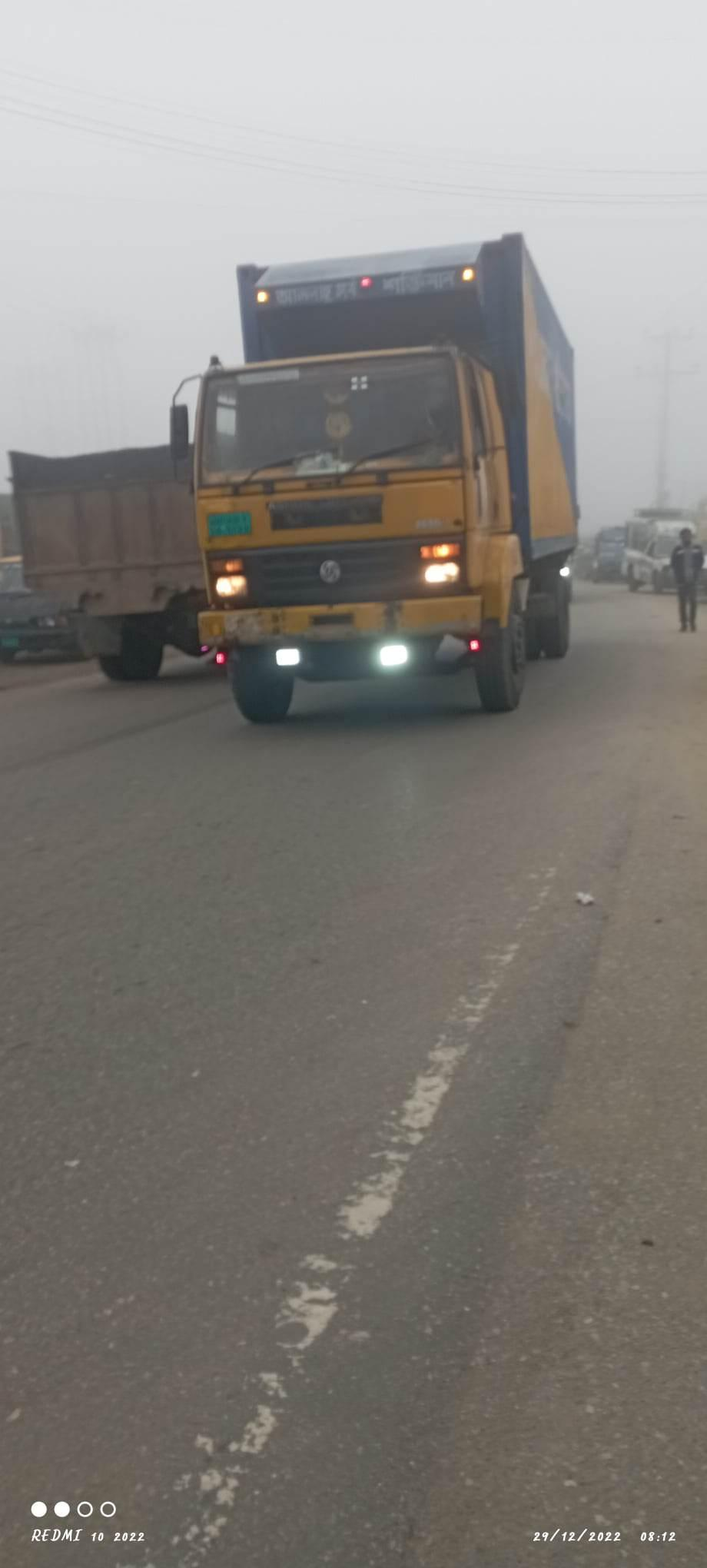Car: (611, 499, 698, 619)
Truck: (171, 238, 621, 739), (5, 403, 234, 716)
